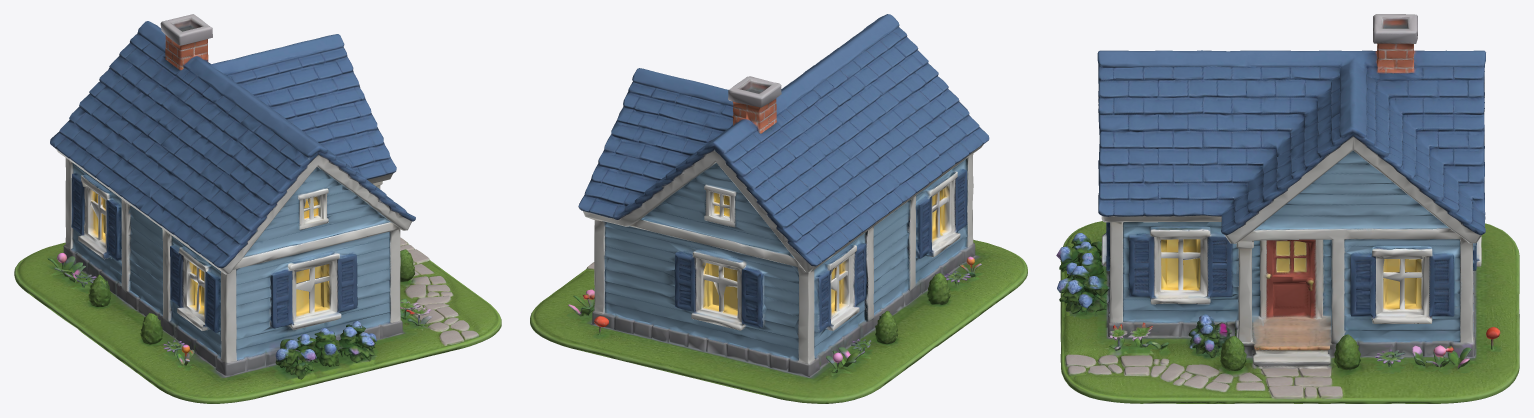
File: house_a.glb
3 renders of one model, left to right at view 1: azimuth 30°, elevation 25°; view 2: azimuth 150°, elevation 25°; view 3: azimuth 270°, elevation 25°, orthographic. The views are drawn at different scales.
Visible parts, largest first — view 1: tripo_node_e9de3574-7357-4d6e-b3c0-7762ab49bc69; view 2: tripo_node_e9de3574-7357-4d6e-b3c0-7762ab49bc69; view 3: tripo_node_e9de3574-7357-4d6e-b3c0-7762ab49bc69.
Part boxes in pixels (x1,y1,x2,y2): tripo_node_e9de3574-7357-4d6e-b3c0-7762ab49bc69: (14,14,501,403); tripo_node_e9de3574-7357-4d6e-b3c0-7762ab49bc69: (530,14,1027,403); tripo_node_e9de3574-7357-4d6e-b3c0-7762ab49bc69: (1056,14,1519,403).
Bounding box in the file's own units: 0.9324 × 0.6603 × 1.
Materials: 1 (1 with a texture image).
